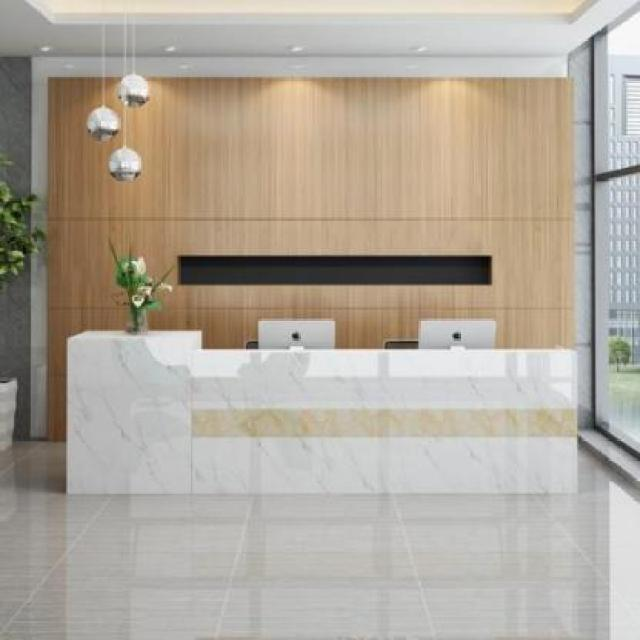frontdesk: (57, 314, 589, 508)
